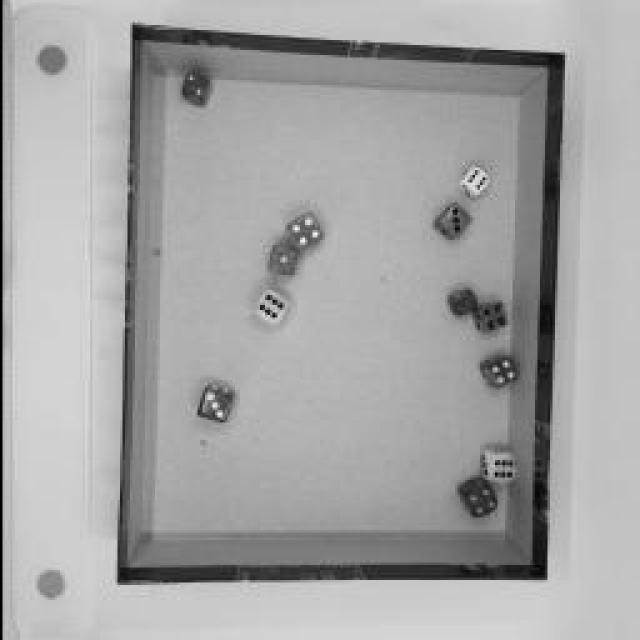dice_1: (262, 240, 298, 275)
dice_2: (178, 68, 210, 108)
dice_3: (428, 200, 472, 245), (192, 380, 232, 422), (445, 285, 475, 317)
dice_4: (450, 472, 495, 520), (278, 211, 324, 254), (475, 350, 515, 390), (469, 297, 506, 335)
dice_6: (248, 282, 290, 328), (475, 444, 515, 486), (451, 164, 489, 198)
